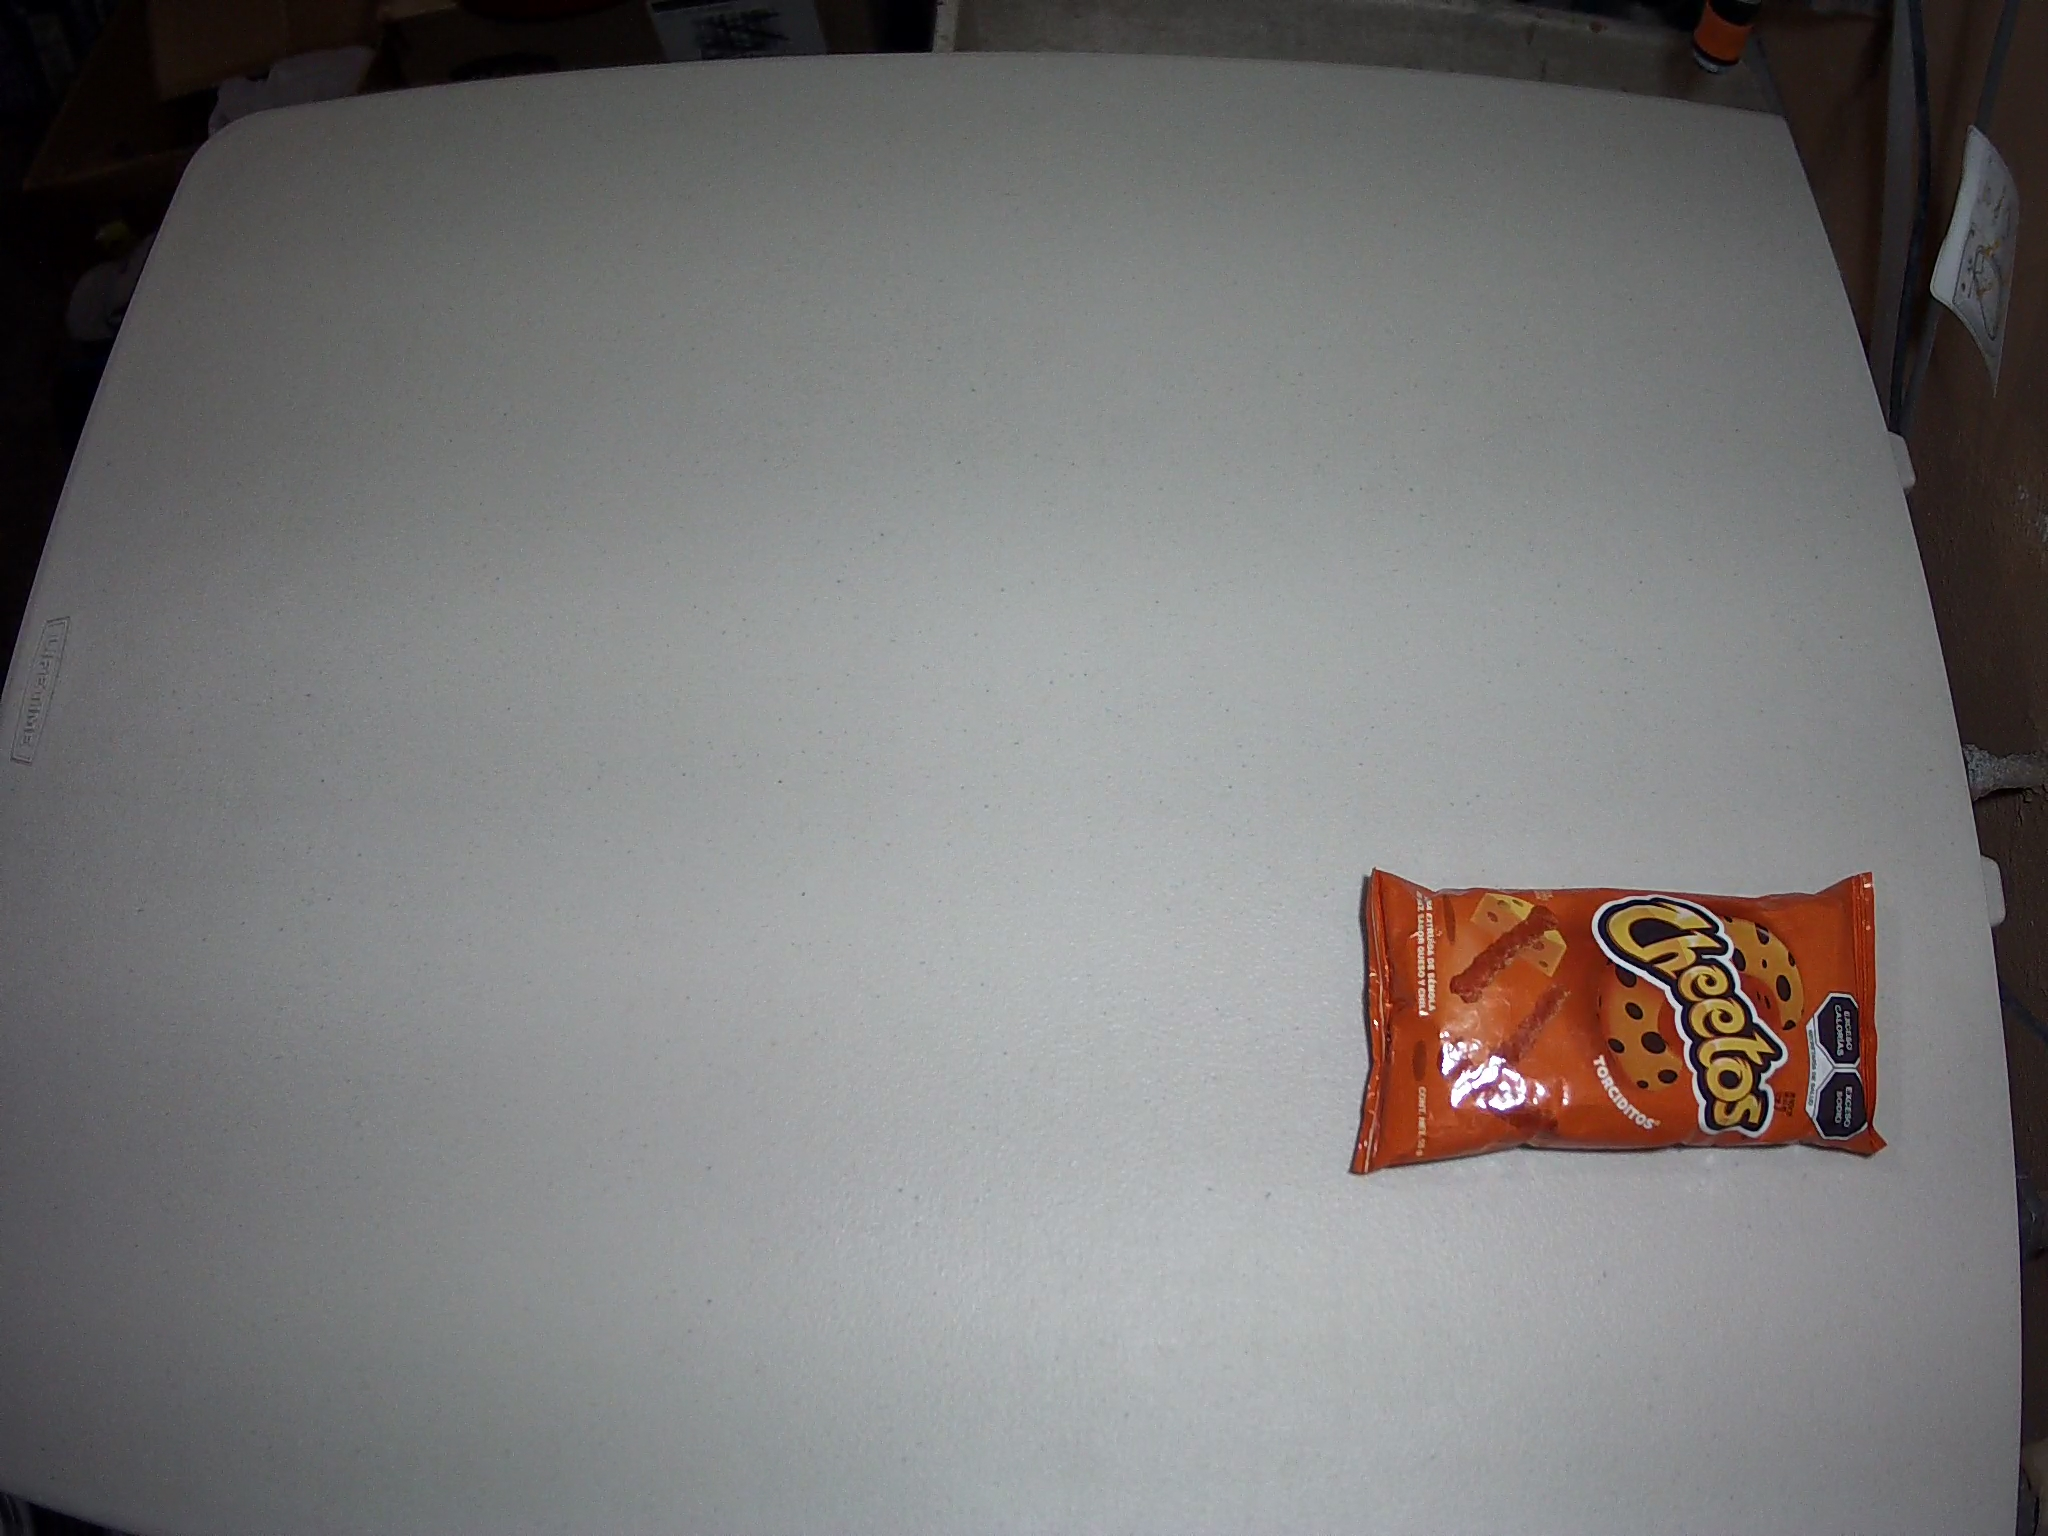CheetosTorciditos_55_F: (1347, 866, 1888, 1171)
